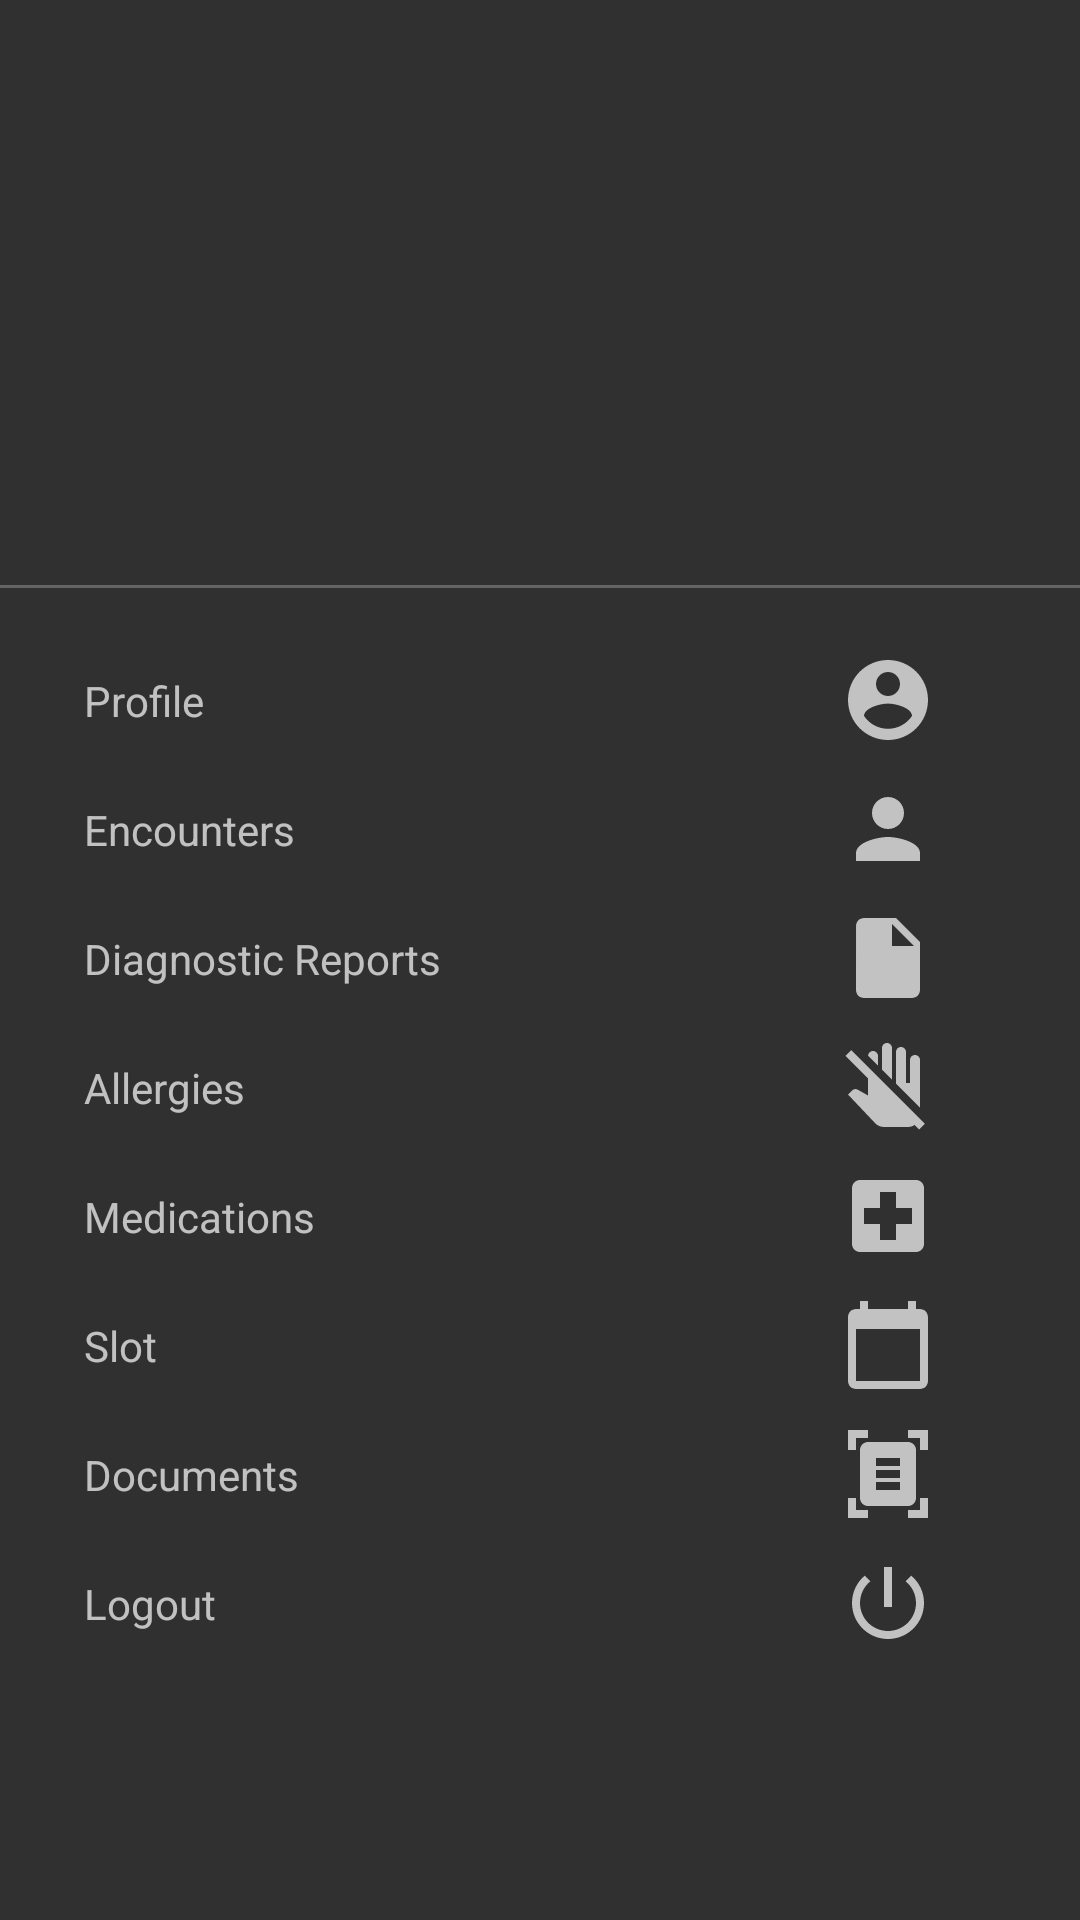

Where to tap for icons on this 1080x1920 app screen, as [x,y]:
appointment: [888,1345]
